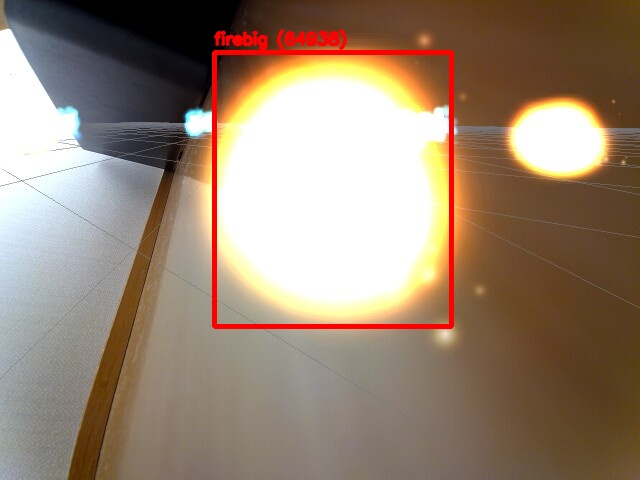firebig: (214, 52, 451, 326)
